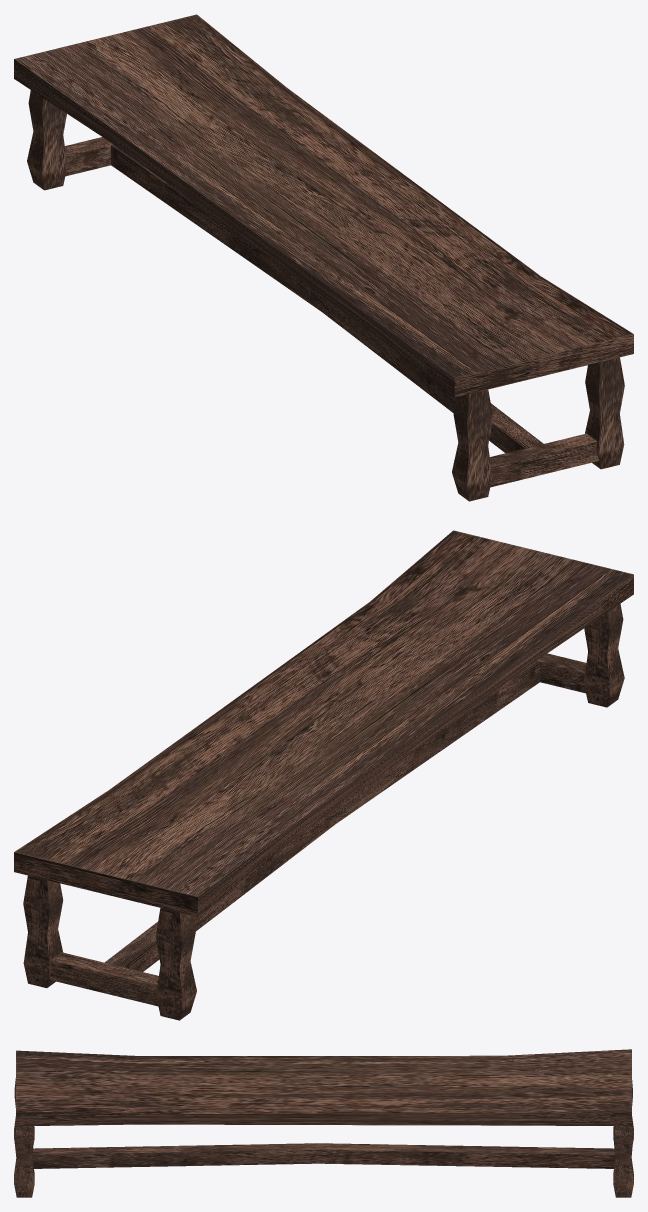
File: banca.fbx
The picture shows the model from 3 angles, top to bottom: view 1: azimuth 30°, elevation 25°; view 2: azimuth 150°, elevation 25°; view 3: azimuth 270°, elevation 25°; orthographic projection. The views are drawn at different scales.
Parts seen in each view (by area): view 1: pCube10; view 2: pCube10; view 3: pCube10.
Part boxes in pixels (bbox=[...]): pCube10: bbox=[14, 14, 633, 501]; pCube10: bbox=[14, 530, 633, 1020]; pCube10: bbox=[14, 1049, 633, 1197].
Size of the model in its own units: 0.7497 by 0.4996 by 3.12.
1 material, 1 textured.
